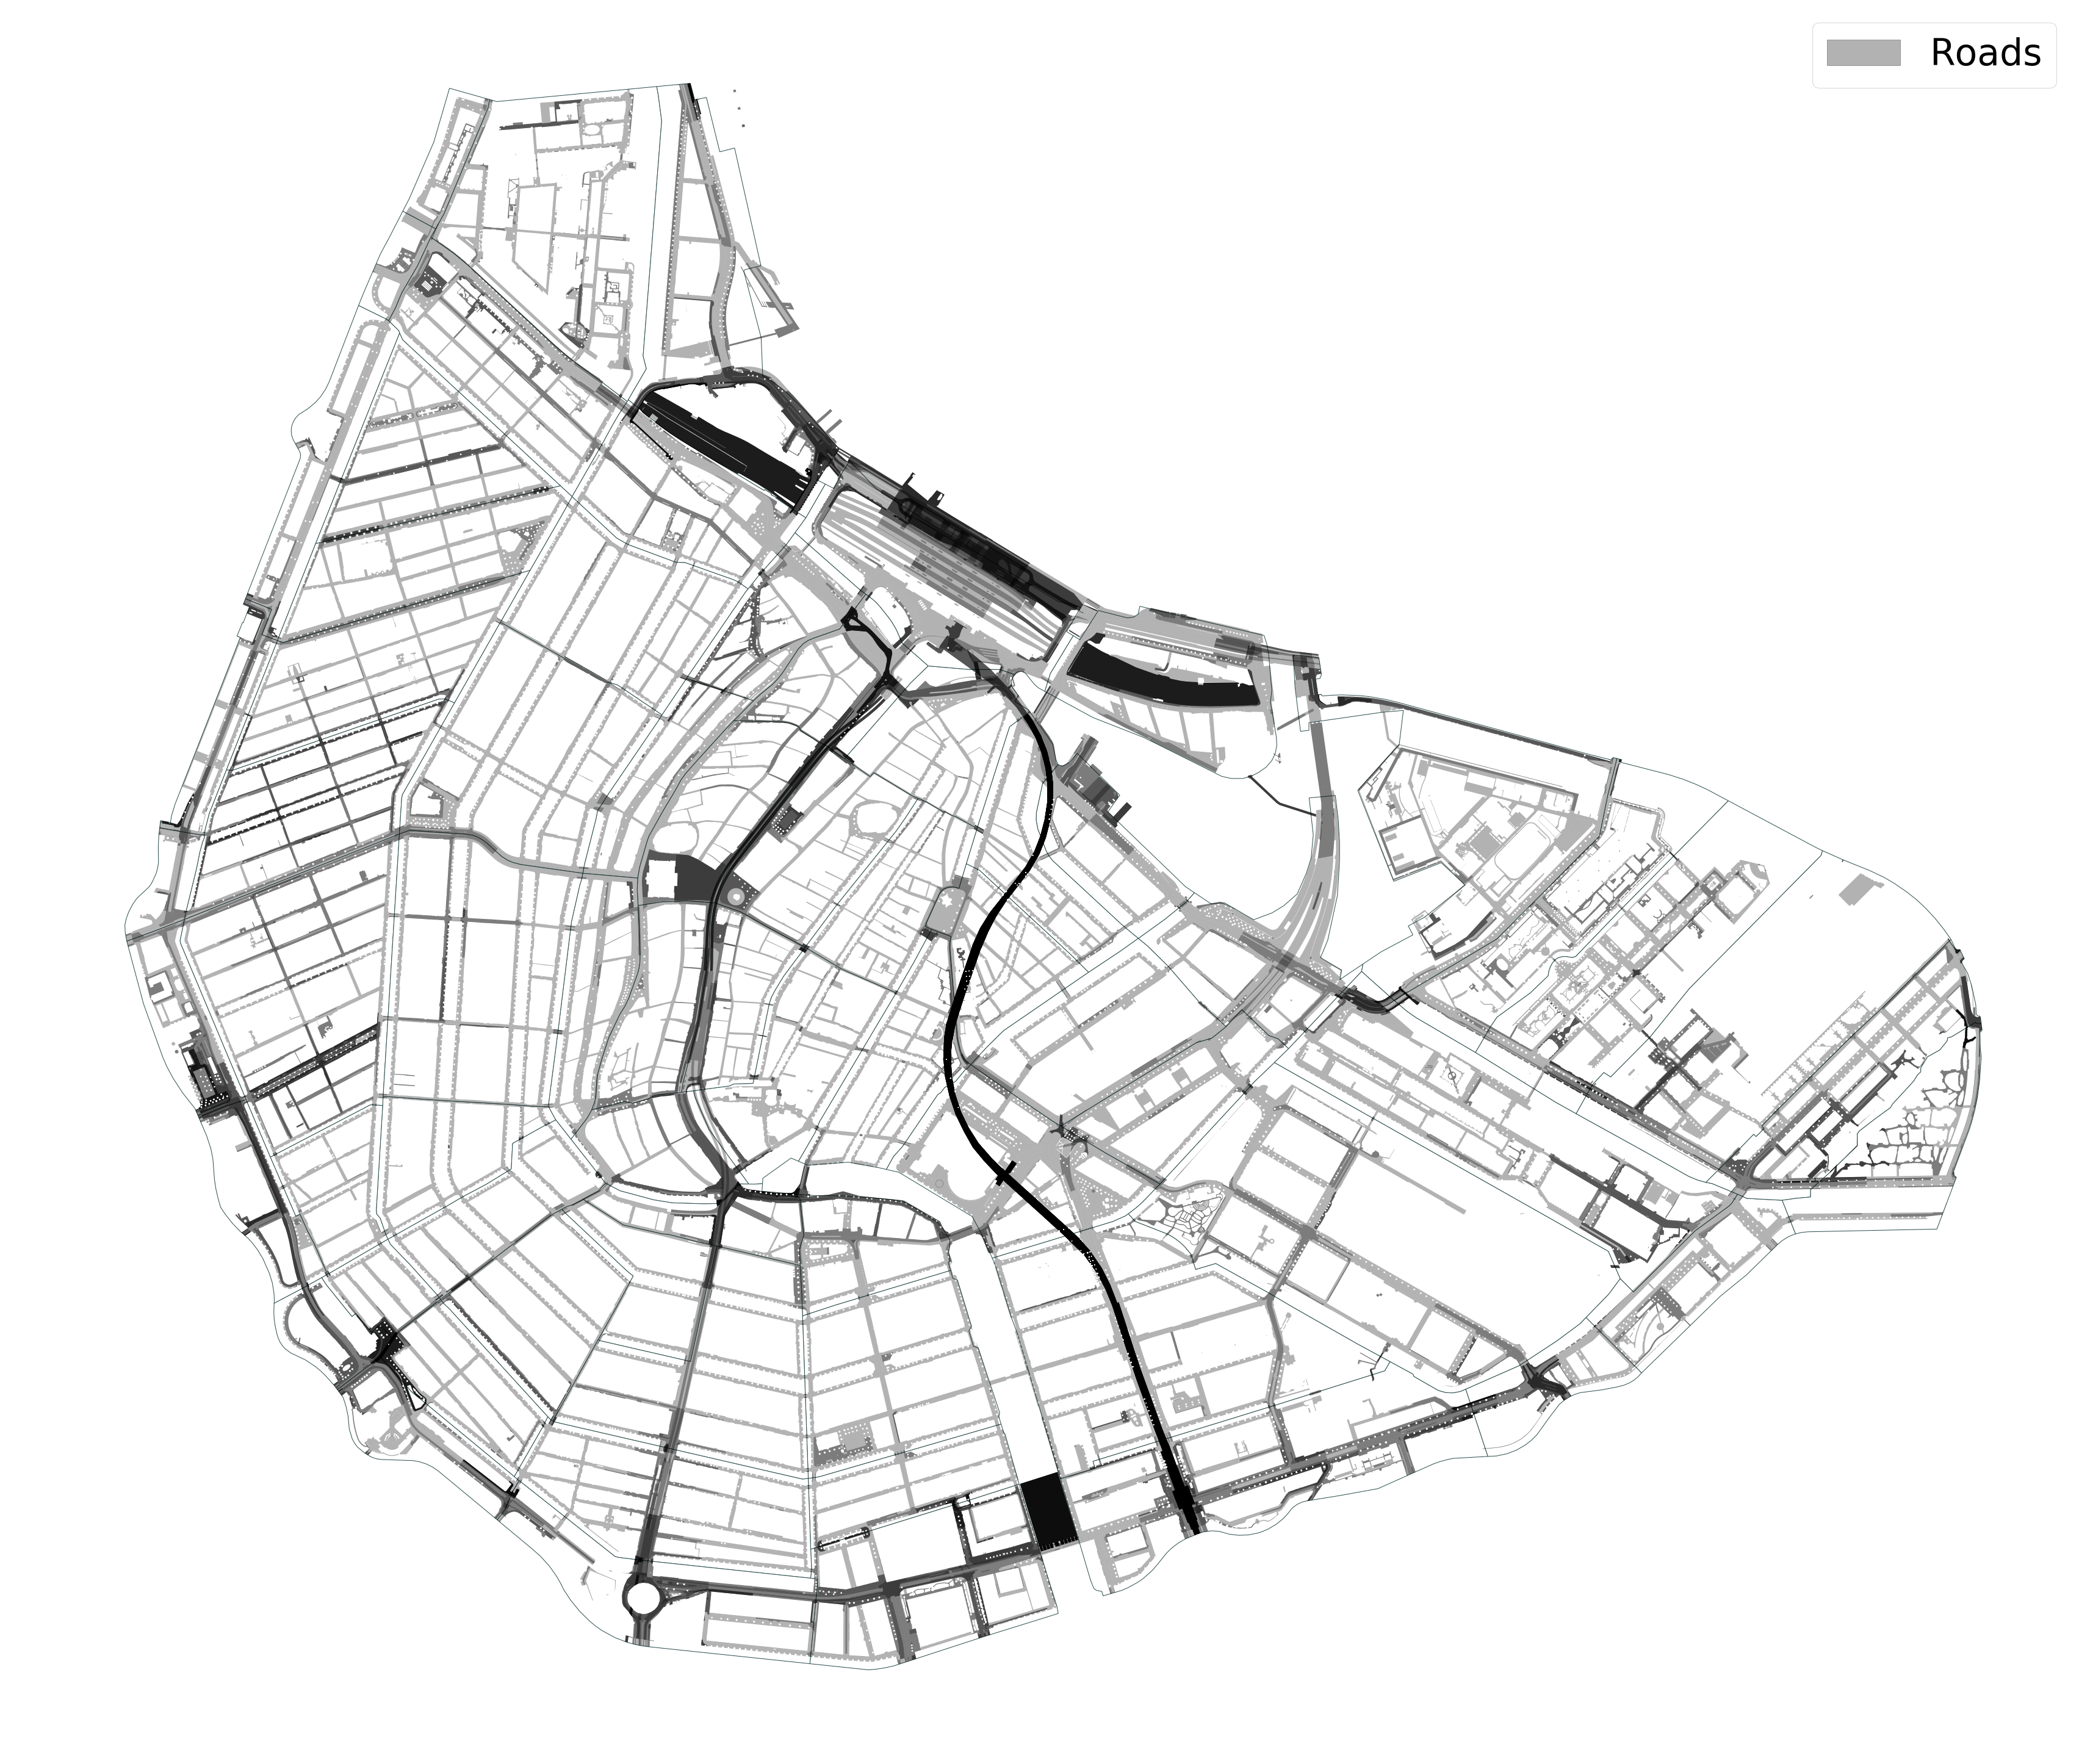

This screenshot's page, from the dashboard's own definition file:
{"tool":"tableau","page":{"name":"Dashboard 1","canvas":[1000,1000],"units":"permille","ordinal":0},"visuals":[{"type":"worksheet","title":"pt","mark":"Line","rows":["0"],"cols":["tiny_forest_area"],"box":[10,14.6,980,970.9]},{"type":"legend","title":"pt","param":"[federated.0cbgzb50fwx32t0zqqtpc04w2hoo].[none:Calculation_1052153505004306432:n","box":[810.5,71,139.7,306]}]}

Visuals, with their boxes on the dashboard's canvas, which has no fixed pixel size, in thousandths of its width and height (x1, y1, x2, y2). These are canvas units, not pixel positions in the 2079x1764 screenshot, which may show the page scaled, cropped or inside an application window:
"pt" worksheet (Line marks): select_region(10, 15, 990, 986)
"pt" legend: select_region(810, 71, 950, 377)
